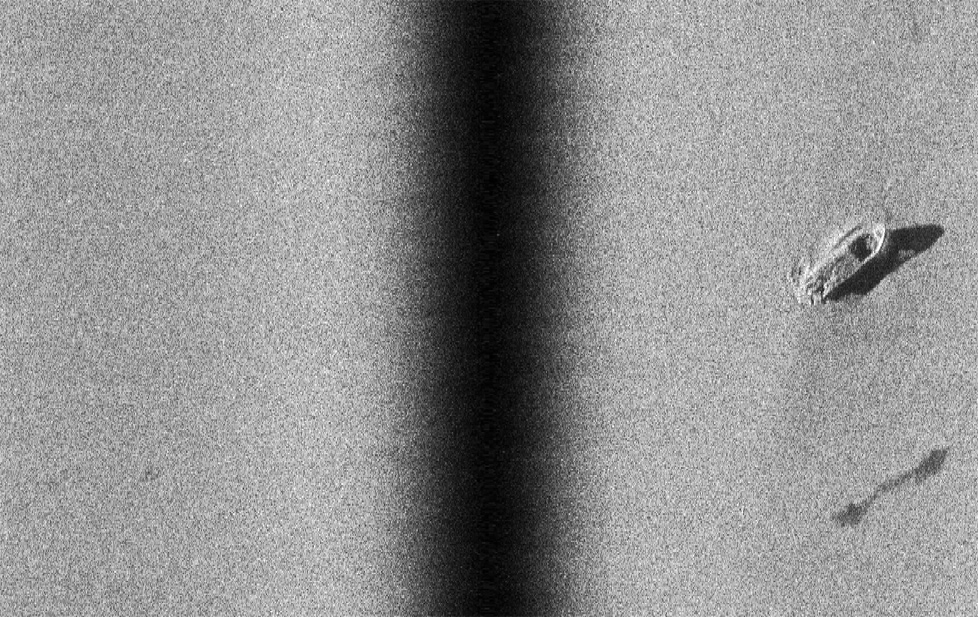ship: (793, 223, 897, 307)
